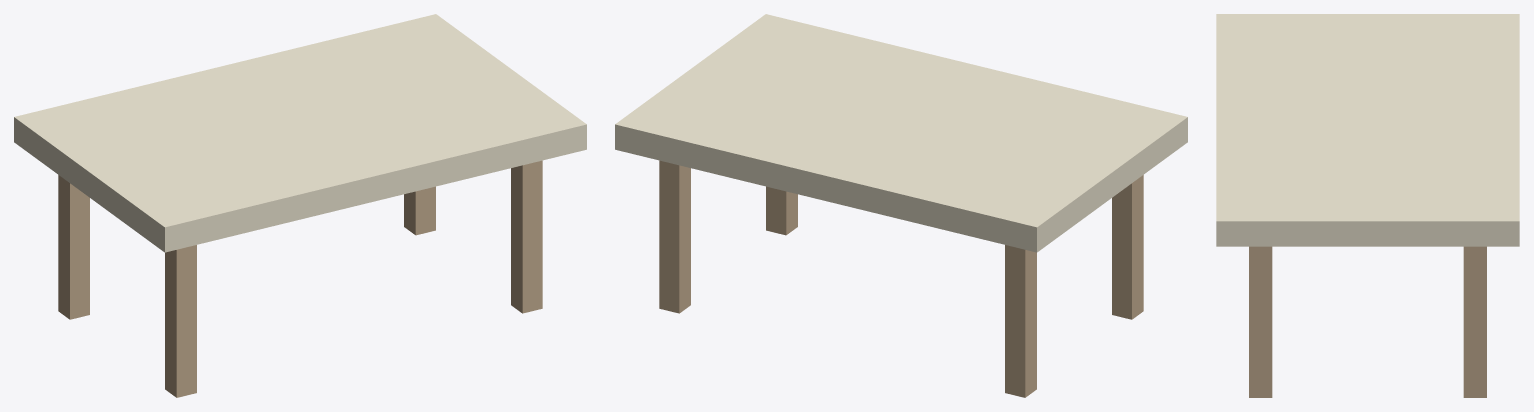
The picture shows the model from 3 angles, left to right: view 1: azimuth 30°, elevation 25°; view 2: azimuth 150°, elevation 25°; view 3: azimuth 270°, elevation 25°; orthographic projection.
Visible parts, largest first — view 1: Coffee_Table_01/Tabletop_0, Coffee_Table_01/Leg_4, Coffee_Table_01/Leg_2, Coffee_Table_01/Leg_1, Coffee_Table_01/Leg_3; view 2: Coffee_Table_01/Tabletop_0, Coffee_Table_01/Leg_3, Coffee_Table_01/Leg_1, Coffee_Table_01/Leg_2, Coffee_Table_01/Leg_4; view 3: Coffee_Table_01/Tabletop_0, Coffee_Table_01/Leg_3, Coffee_Table_01/Leg_4.
Part boxes in pixels (bbox=[...]): Coffee_Table_01/Tabletop_0: bbox=[14, 14, 586, 252]; Coffee_Table_01/Leg_4: bbox=[511, 160, 542, 313]; Coffee_Table_01/Leg_2: bbox=[165, 245, 196, 397]; Coffee_Table_01/Leg_1: bbox=[58, 175, 89, 319]; Coffee_Table_01/Leg_3: bbox=[404, 186, 435, 235]; Coffee_Table_01/Tabletop_0: bbox=[615, 14, 1187, 252]; Coffee_Table_01/Leg_3: bbox=[659, 160, 690, 313]; Coffee_Table_01/Leg_1: bbox=[1005, 245, 1036, 397]; Coffee_Table_01/Leg_2: bbox=[1112, 175, 1143, 319]; Coffee_Table_01/Leg_4: bbox=[766, 186, 797, 235]; Coffee_Table_01/Tabletop_0: bbox=[1216, 14, 1519, 246]; Coffee_Table_01/Leg_3: bbox=[1463, 246, 1486, 397]; Coffee_Table_01/Leg_4: bbox=[1249, 246, 1272, 397].
Bounding box in the file's own units: 1.05 × 0.45 × 0.65.
